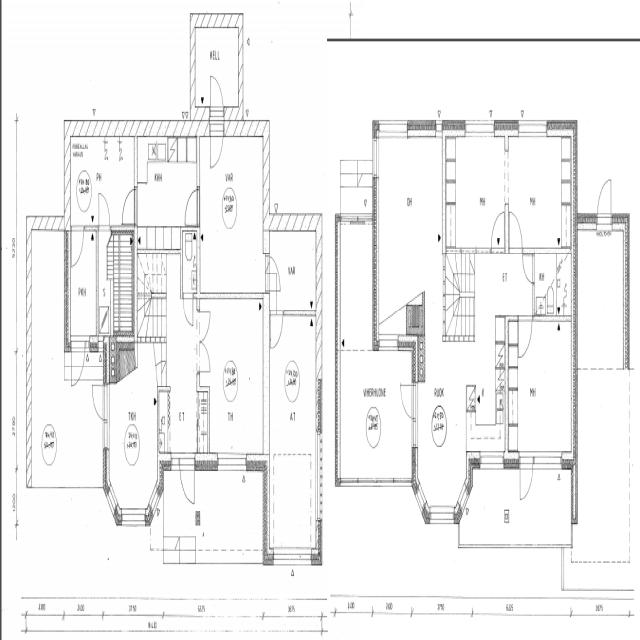door: (180, 228, 200, 300), (595, 173, 614, 230), (208, 112, 225, 173), (178, 453, 196, 508), (120, 183, 138, 232), (69, 340, 86, 390), (518, 455, 535, 505), (398, 376, 415, 426), (517, 314, 535, 361), (182, 183, 200, 230), (508, 205, 524, 256), (489, 206, 506, 254), (209, 73, 225, 122), (268, 308, 285, 351), (70, 222, 85, 269), (91, 379, 107, 423), (96, 188, 112, 232), (180, 290, 197, 329), (198, 304, 213, 347), (198, 332, 212, 378), (265, 255, 281, 292), (521, 248, 535, 288)
window: (270, 544, 313, 572), (210, 288, 262, 309), (426, 501, 458, 534), (214, 446, 249, 476), (312, 423, 322, 524), (461, 114, 497, 141), (376, 114, 409, 142), (263, 344, 272, 446), (533, 451, 566, 478), (515, 116, 549, 141), (118, 507, 148, 534), (477, 450, 506, 477), (454, 480, 472, 523), (413, 481, 430, 521), (376, 330, 402, 355), (569, 472, 579, 534), (83, 214, 96, 237)
zone: (374, 130, 445, 341), (269, 307, 318, 548), (199, 298, 269, 462), (200, 128, 268, 296), (336, 214, 376, 477), (508, 315, 575, 466), (105, 342, 161, 522), (416, 342, 467, 508), (505, 131, 573, 252), (444, 132, 510, 253), (138, 142, 199, 251), (464, 316, 506, 463), (375, 346, 415, 481), (268, 226, 318, 315), (67, 228, 101, 349), (105, 228, 135, 345), (534, 250, 572, 318), (181, 228, 200, 298)
